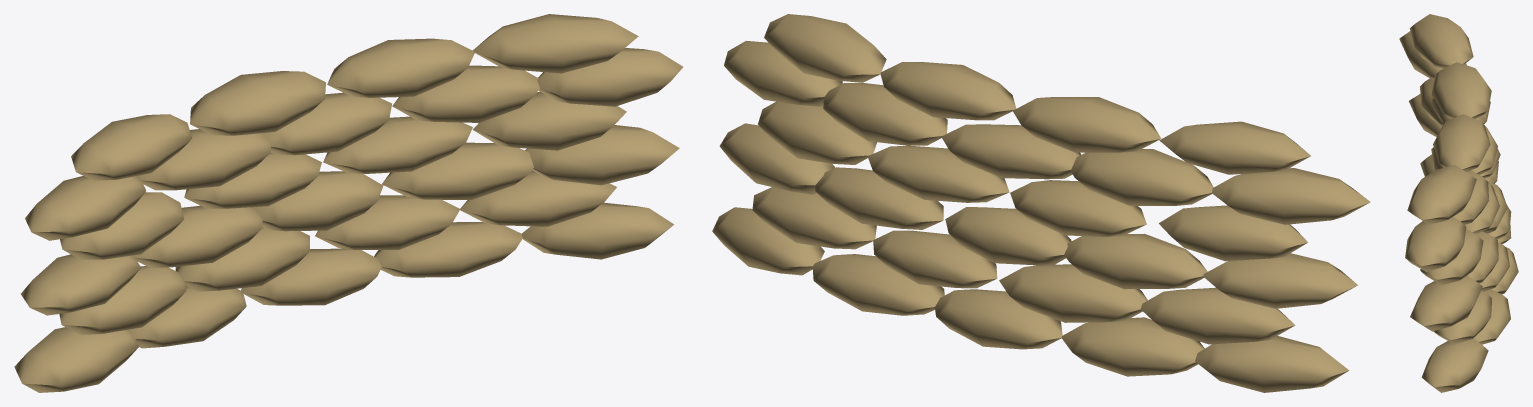
File: sandbags.glb
3 views of the same model, side by side, from view 1: azimuth 30°, elevation 25°; view 2: azimuth 150°, elevation 25°; view 3: azimuth 270°, elevation 25° (orthographic). The views are drawn at different scales.
Visible parts, largest first — view 1: Sandbags; view 2: Sandbags; view 3: Sandbags.
Part boxes in pixels (left/top/right/bottom): Sandbags: left=14, top=14, right=682, bottom=392; Sandbags: left=712, top=14, right=1370, bottom=392; Sandbags: left=1399, top=14, right=1518, bottom=392.
Bounding box in the file's own units: 2.47 × 0.9042 × 0.527.
